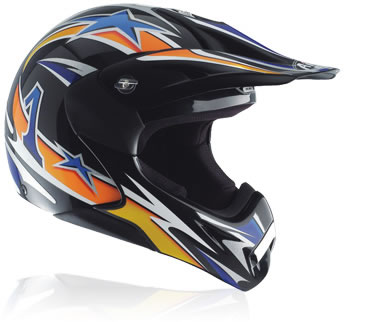helmet: (8, 5, 318, 281)
